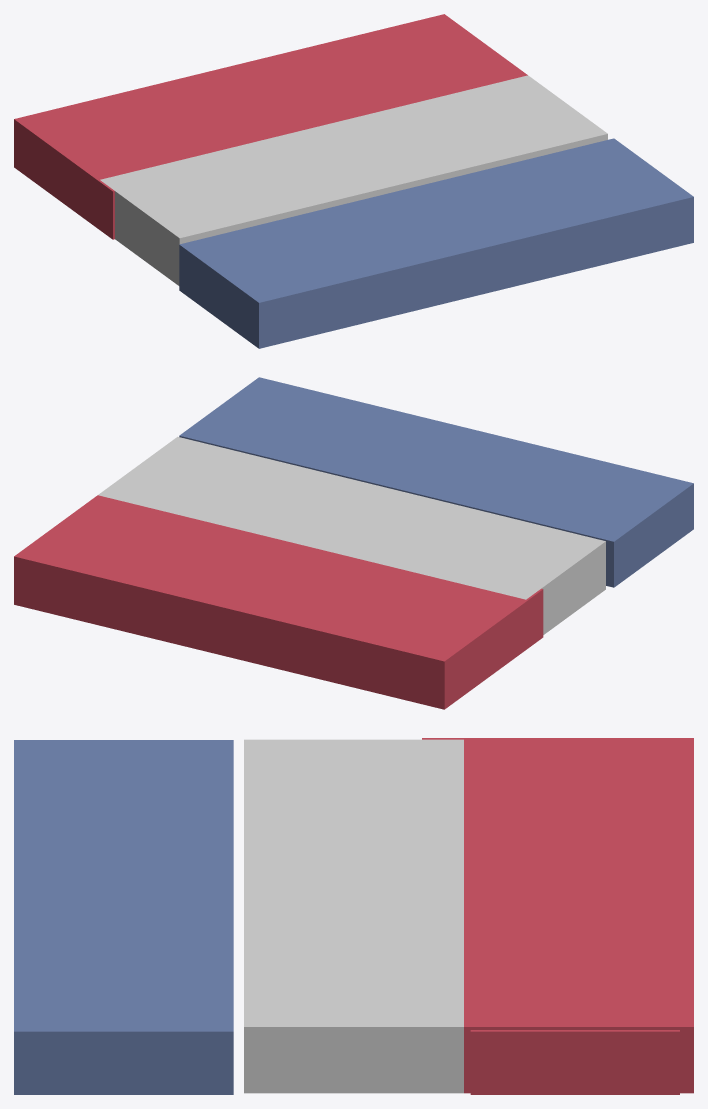
Rendered from Países Bajos.glb.
3 views of the same model, one above another, from view 1: azimuth 30°, elevation 25°; view 2: azimuth 150°, elevation 25°; view 3: azimuth 270°, elevation 25° (orthographic). The views are drawn at different scales.
Parts seen in each view (by area): view 1: Mesh_Mesh_head_geo.001_lambert2SG.001; view 2: Mesh_Mesh_head_geo.001_lambert2SG.001; view 3: Mesh_Mesh_head_geo.001_lambert2SG.001.
Part boxes in pixels (left/top/right/bottom): Mesh_Mesh_head_geo.001_lambert2SG.001: left=14, top=14, right=693, bottom=348; Mesh_Mesh_head_geo.001_lambert2SG.001: left=14, top=377, right=693, bottom=709; Mesh_Mesh_head_geo.001_lambert2SG.001: left=14, top=738, right=693, bottom=1094.
Bounding box in the file's own units: 0.198 × 0.021 × 0.195.
